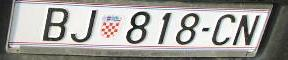-: (201, 26, 211, 35)
1: (158, 12, 173, 43)
8: (128, 11, 150, 47), (177, 15, 199, 45)
B: (43, 6, 66, 45)
C: (211, 14, 234, 46)
J: (72, 8, 98, 45)
N: (235, 14, 260, 47)
